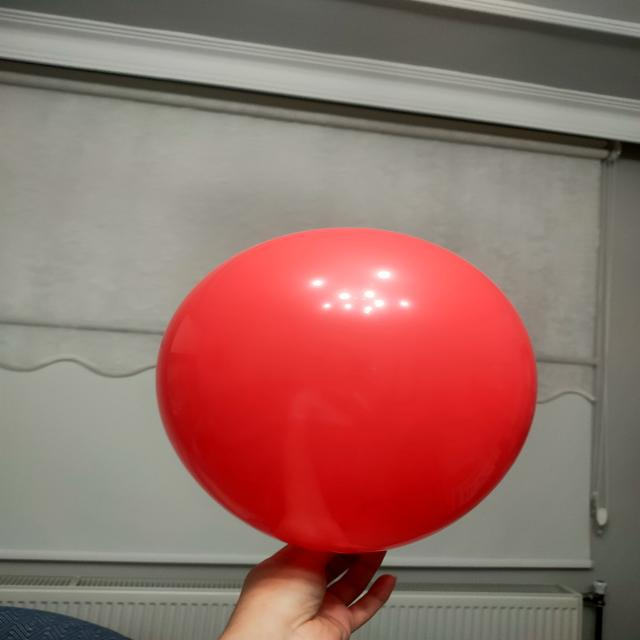red: (157, 230, 539, 556)
